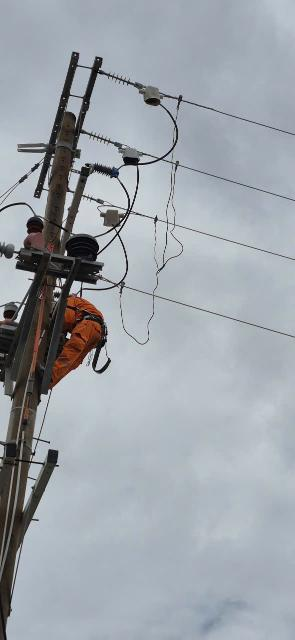harness: (74, 307, 121, 345)
